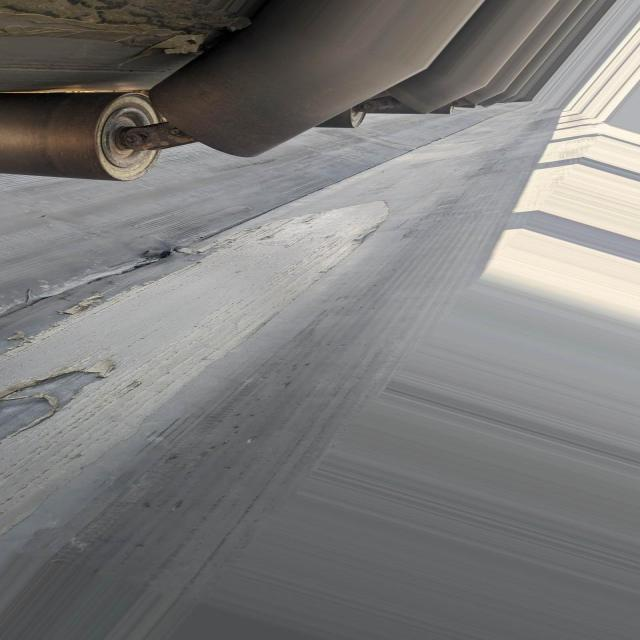Tear: (0, 246, 197, 349), (0, 354, 121, 444)
